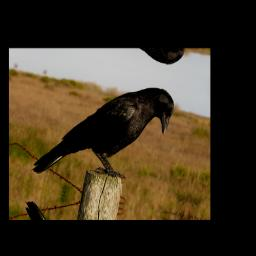Crow: (30, 64, 177, 200)
